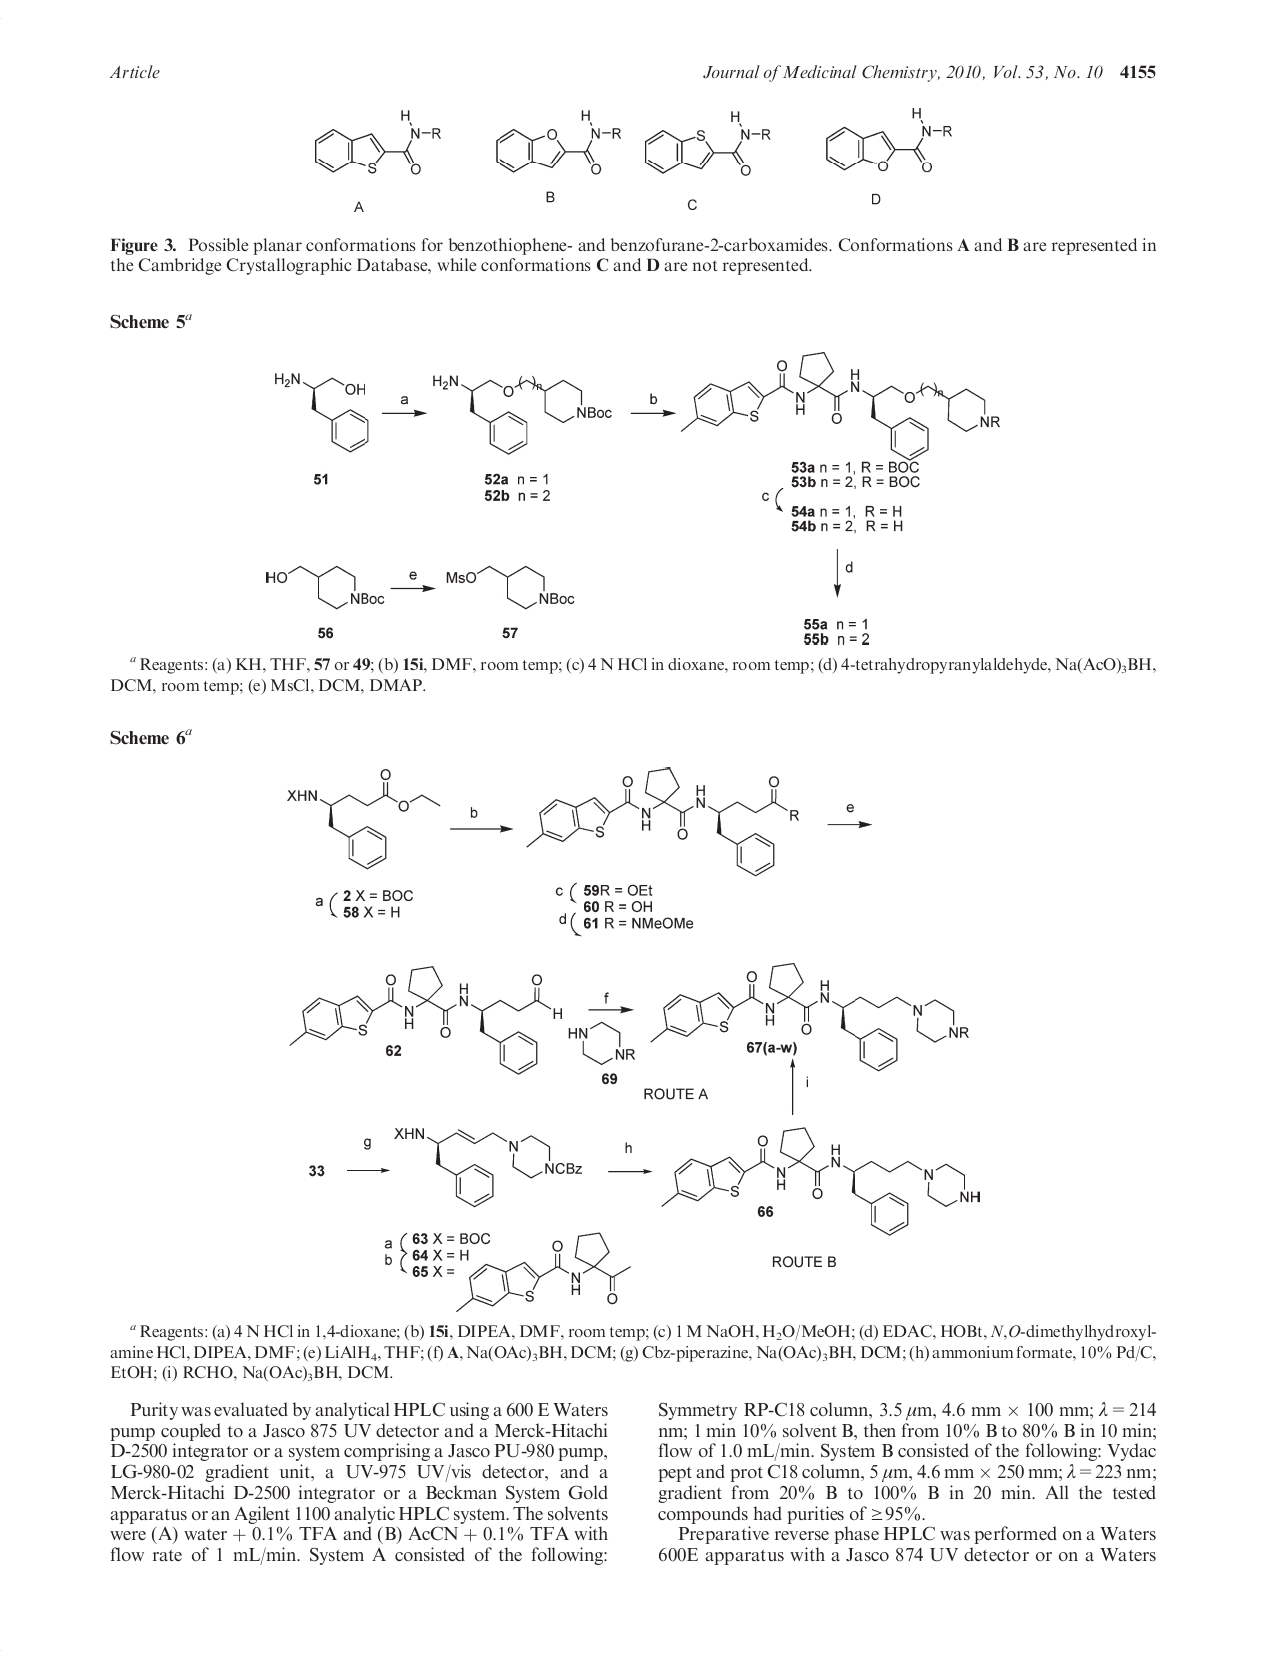exist_molecular: (568, 954, 989, 1088), (678, 346, 1008, 465), (658, 1126, 985, 1238), (293, 948, 568, 1075), (525, 755, 801, 879), (387, 1101, 590, 1204), (283, 751, 439, 868), (428, 364, 616, 457), (452, 1226, 636, 1317), (259, 348, 380, 451), (311, 100, 451, 182), (487, 102, 622, 180), (640, 106, 777, 182), (821, 108, 956, 177), (439, 551, 580, 612), (263, 551, 394, 614)
